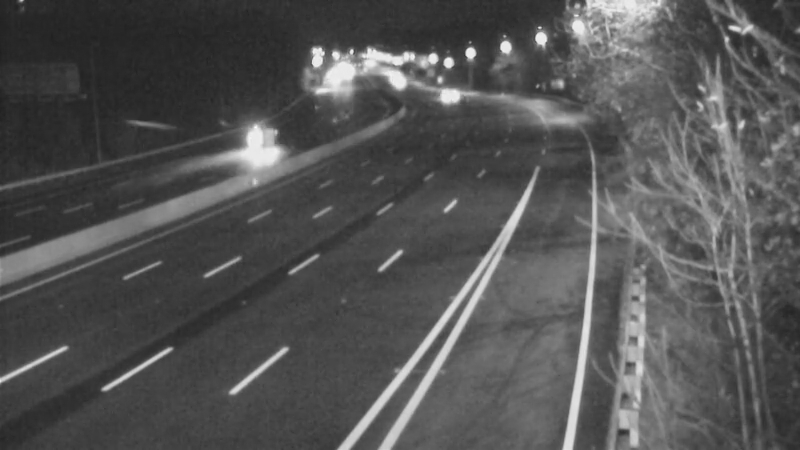vehicle: (421, 71, 471, 121), (236, 113, 286, 163)
